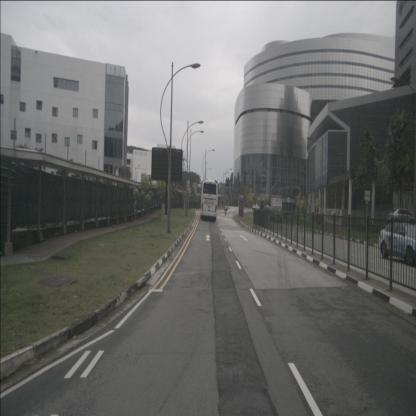vehicle-bus-rigid: (200, 179, 218, 222)
vehicle-car: (378, 221, 416, 267), (387, 208, 416, 225), (252, 203, 260, 211), (264, 205, 272, 212)
vehicle-motorcycle: (224, 204, 228, 216)
vehicle-truck: (271, 197, 282, 223)
